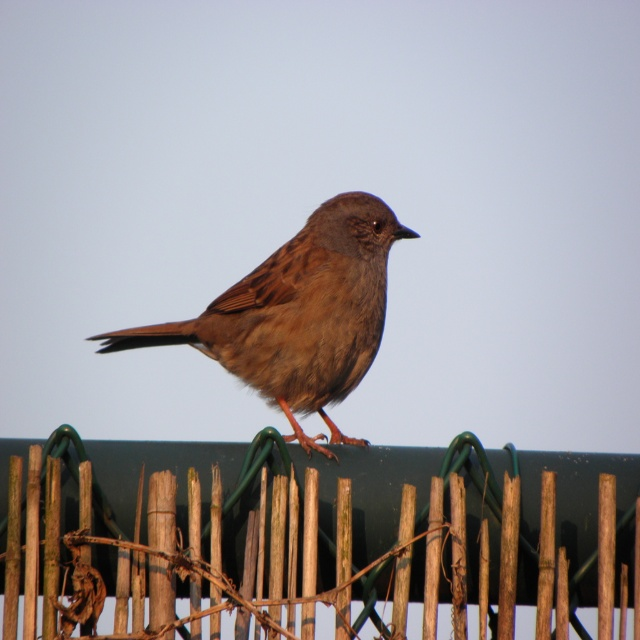Sparrow: (84, 186, 422, 462)
